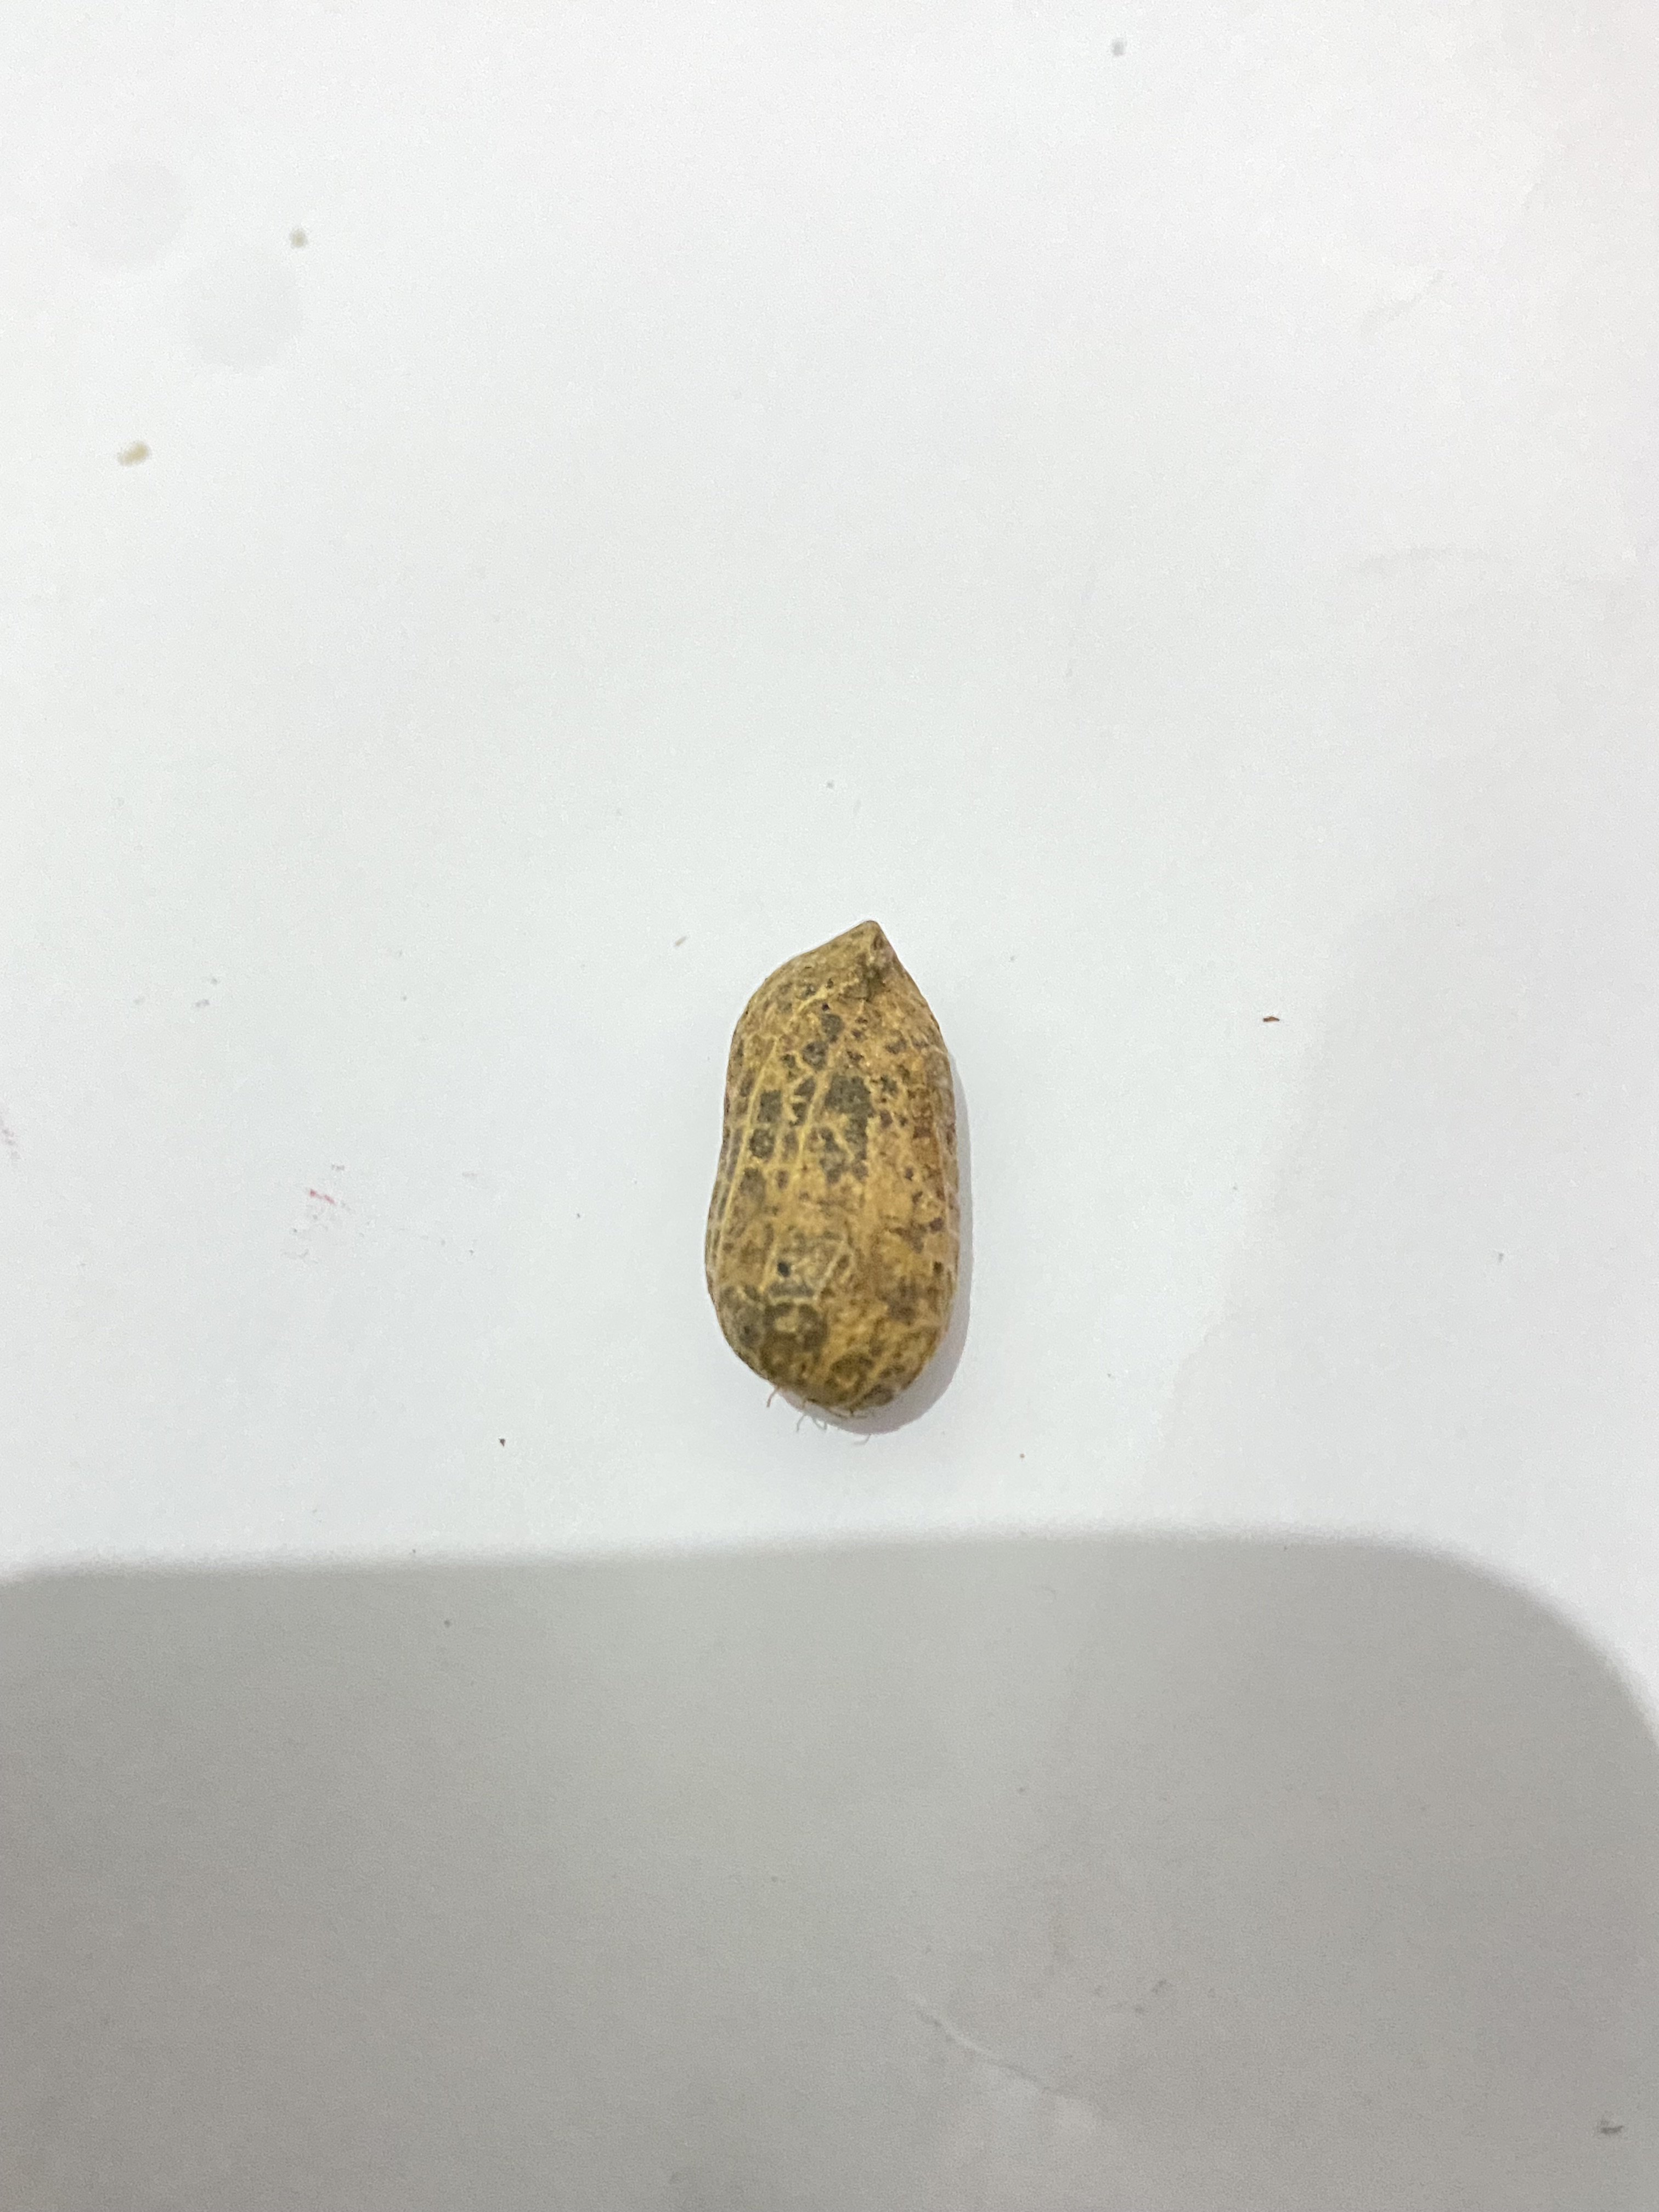kacang2: (687, 869, 983, 1428)
